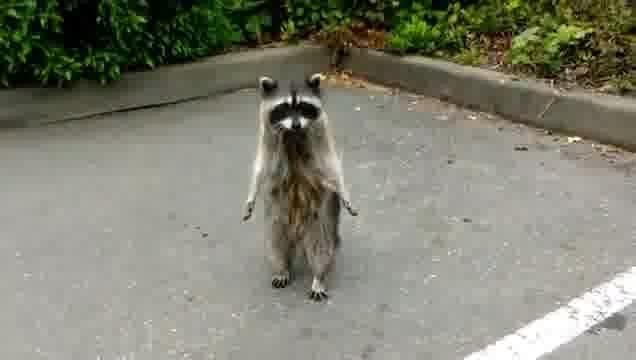raccoon: (244, 73, 360, 302)
